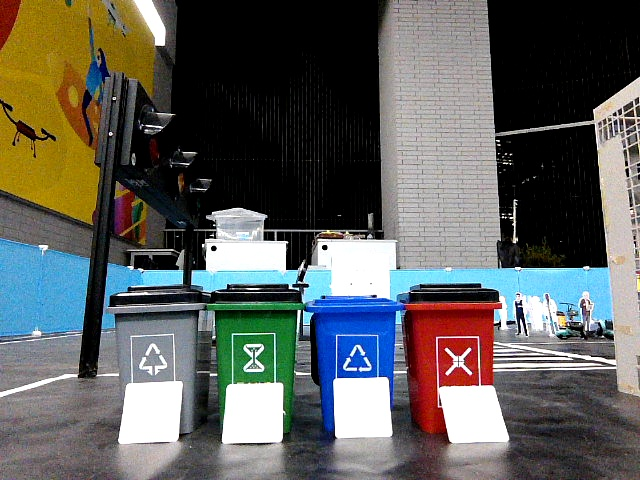blue_open: (315, 295, 391, 374)
green_close: (218, 283, 298, 382)
grey_close: (118, 286, 197, 381)
red_close: (401, 282, 495, 384)
